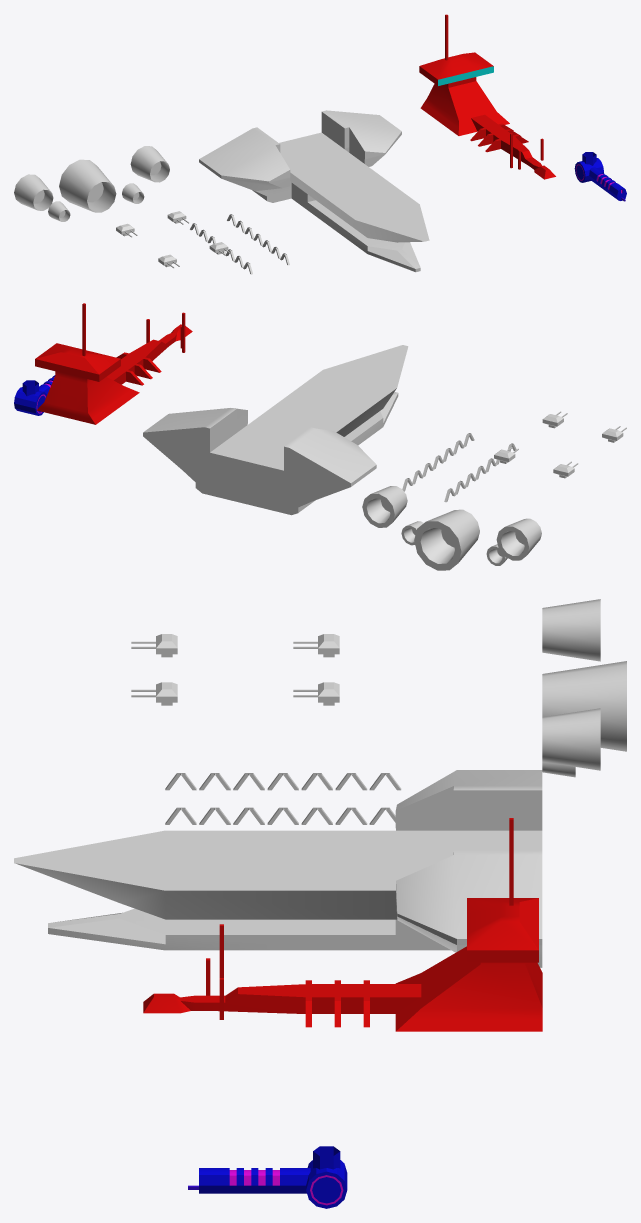
The model's file is Space_Ship_1.fbx.
3 renders of one model, top to bottom at view 1: azimuth 30°, elevation 25°; view 2: azimuth 150°, elevation 25°; view 3: azimuth 270°, elevation 25°, orthographic. The views are drawn at different scales.
Parts seen in each view (by area): view 1: Ship_Body, Ship_Top, Ship_Boosters, Ship_Laser, Shp_Mid, Ship_Guns; view 2: Ship_Body, Ship_Top, Ship_Boosters, Shp_Mid, Ship_Laser, Ship_Guns; view 3: Ship_Body, Ship_Top, Ship_Boosters, Ship_Laser, Shp_Mid, Ship_Guns.
Part boxes in pixels (x1=…): Ship_Body: x1=199, y1=110, x2=429, y2=272; Ship_Top: x1=419, y1=14, x2=555, y2=179; Ship_Boosters: x1=14, y1=146, x2=169, y2=221; Ship_Laser: x1=574, y1=152, x2=626, y2=201; Shp_Mid: x1=190, y1=214, x2=289, y2=274; Ship_Guns: x1=116, y1=211, x2=231, y2=268; Ship_Body: x1=143, y1=345, x2=408, y2=515; Ship_Top: x1=35, y1=303, x2=192, y2=424; Ship_Boosters: x1=362, y1=486, x2=541, y2=570; Shp_Mid: x1=402, y1=433, x2=516, y2=502; Ship_Laser: x1=14, y1=375, x2=55, y2=415; Ship_Guns: x1=494, y1=411, x2=626, y2=478; Ship_Body: x1=14, y1=770, x2=542, y2=967; Ship_Top: x1=143, y1=818, x2=542, y2=1031; Ship_Boosters: x1=542, y1=599, x2=626, y2=777; Ship_Laser: x1=188, y1=1146, x2=347, y2=1208; Shp_Mid: x1=165, y1=773, x2=401, y2=824; Ship_Guns: x1=131, y1=634, x2=339, y2=705.
Bounding box in the file's own units: 83.39 × 23.71 × 44.96.
